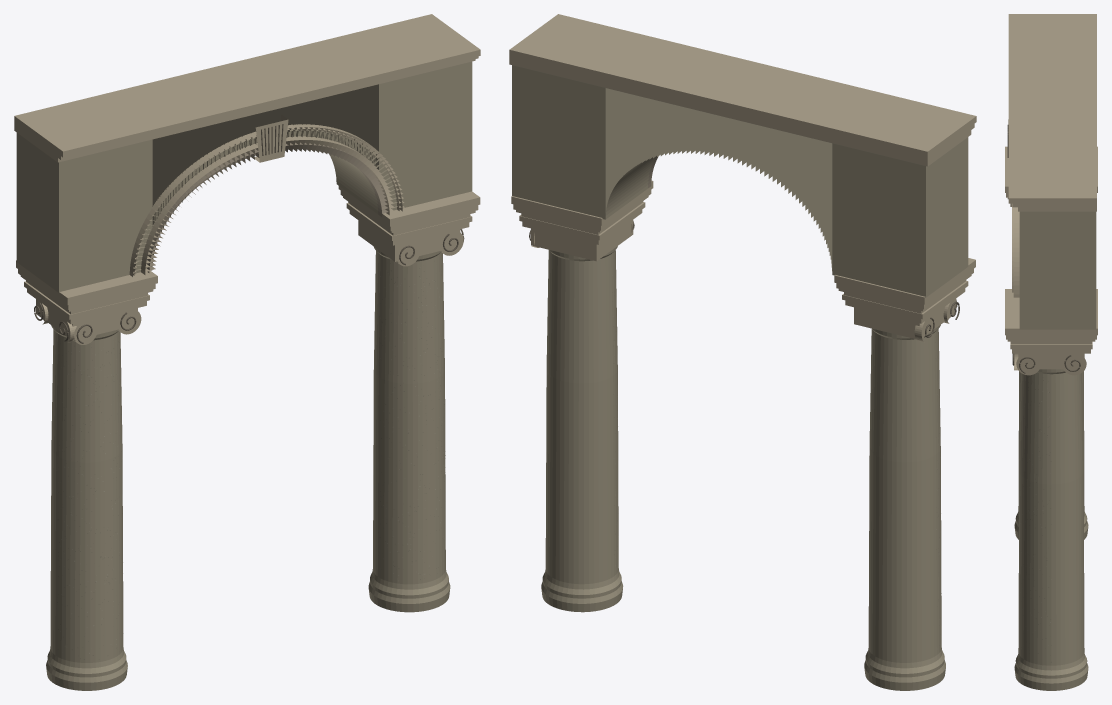
Rendered from hongkou-xiangde-66-no1-volute-portico-raw.glb.
The picture shows the model from 3 angles, left to right: view 1: azimuth 30°, elevation 25°; view 2: azimuth 150°, elevation 25°; view 3: azimuth 270°, elevation 25°; orthographic projection. The views are drawn at different scales.
Visible parts, largest first — view 1: 祥德路66弄1号卷头水刷石门廊与拱心石; view 2: 祥德路66弄1号卷头水刷石门廊与拱心石; view 3: 祥德路66弄1号卷头水刷石门廊与拱心石.
Boxes of the visible parts, x1,y1,x2,y2 form: 祥德路66弄1号卷头水刷石门廊与拱心石: (14,14,480,690); 祥德路66弄1号卷头水刷石门廊与拱心石: (509,14,976,690); 祥德路66弄1号卷头水刷石门廊与拱心石: (1005,14,1097,690).
Size of the model in its own units: 2.72 by 3.43 by 0.58.
